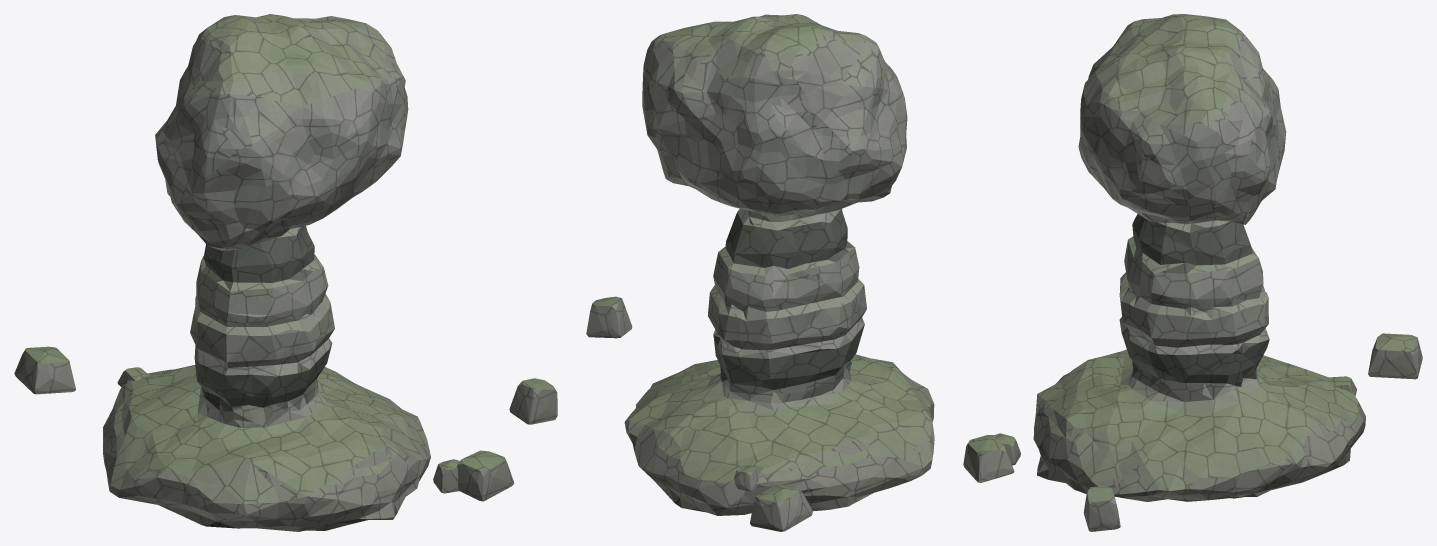
The model's file is balanced_rock.glb.
3 renders of one model, left to right at view 1: azimuth 30°, elevation 25°; view 2: azimuth 150°, elevation 25°; view 3: azimuth 270°, elevation 25°, orthographic. The views are drawn at different scales.
Visible parts, largest first — view 1: balanced_rock.001; view 2: balanced_rock.001; view 3: balanced_rock.001.
Part boxes in pixels (left/top/right/bottom): balanced_rock.001: left=14, top=14, right=557, bottom=531; balanced_rock.001: left=586, top=14, right=934, bottom=531; balanced_rock.001: left=963, top=14, right=1422, bottom=531.
Size of the model in its own units: 8.87 by 9.92 by 9.5.
Materials: 2 (2 with a texture image).
